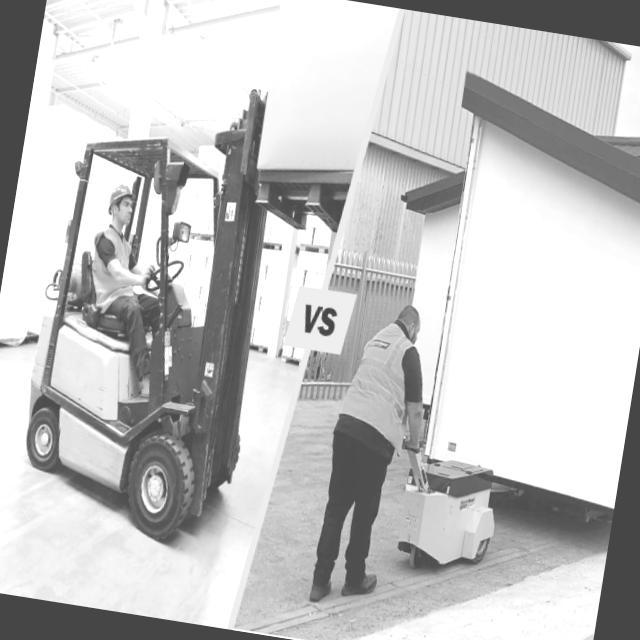driver: (66, 170, 193, 404)
forklift: (0, 81, 301, 571)
person: (310, 293, 436, 610)
